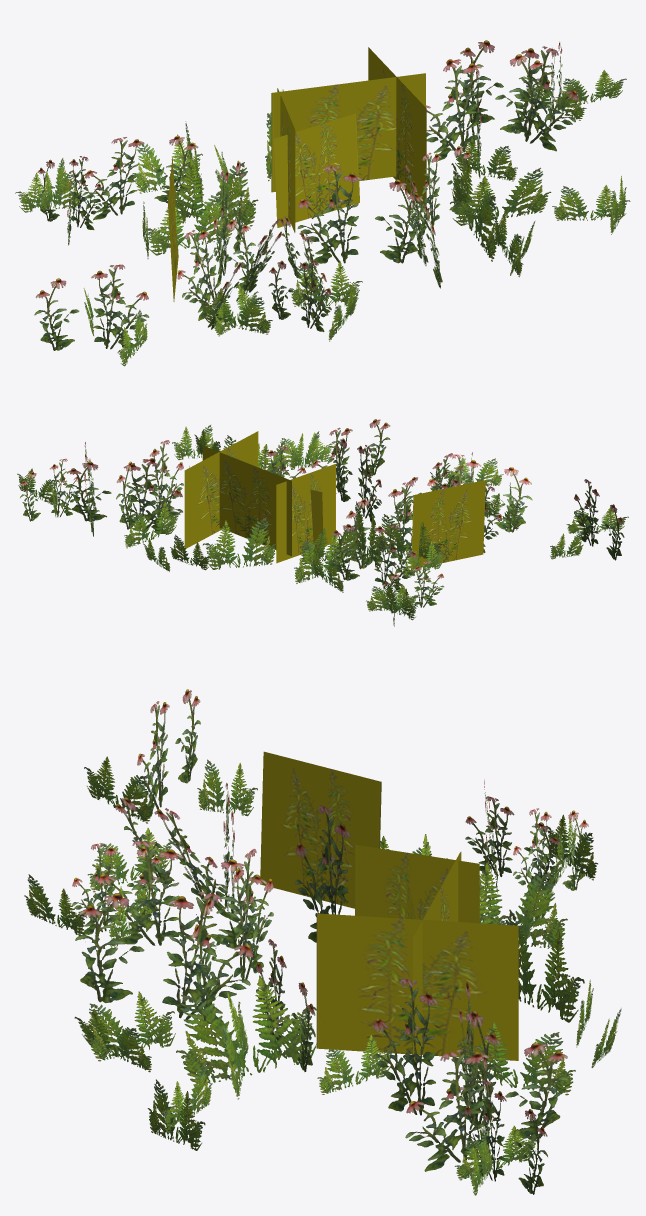
The model's file is DN_grass02c.FBX.
The picture shows the model from 3 angles, top to bottom: view 1: azimuth 30°, elevation 25°; view 2: azimuth 150°, elevation 25°; view 3: azimuth 270°, elevation 25°; orthographic projection. The views are drawn at different scales.
Visible parts, largest first — view 1: DN_grass02c; view 2: DN_grass02c; view 3: DN_grass02c.
Boxes of the visible parts, x1=… form: DN_grass02c: x1=15, y1=40, x2=630, y2=366; DN_grass02c: x1=17, y1=419, x2=628, y2=626; DN_grass02c: x1=24, y1=689, x2=621, y2=1195.
Bounding box in the file's own units: 41.33 × 7.15 × 24.29.
Materials: 3 (3 with a texture image).
